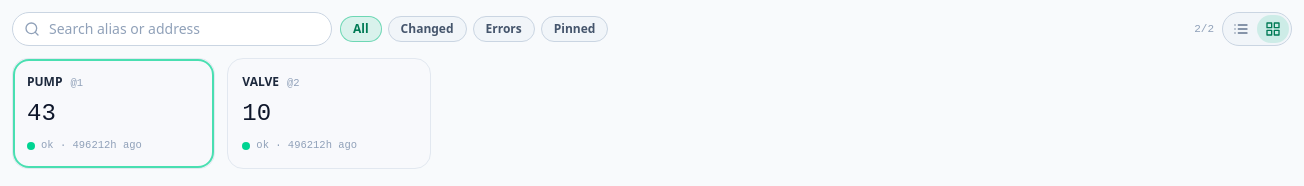
Test: RegisterMonitorView › flashes a register whose value changed and the Changed filter narrows to it
Click the button "Changed": coordinates (427, 29) [388,16,467,42]
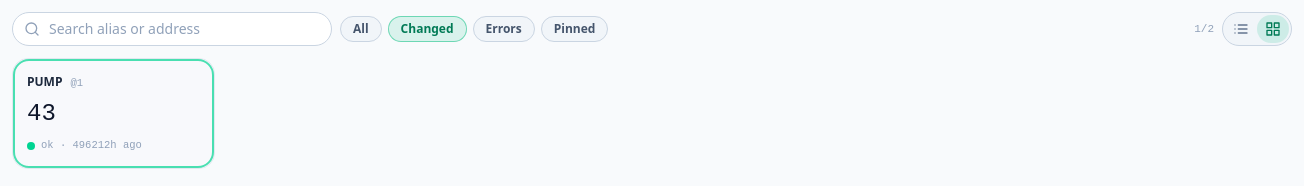
Check: the text "PUMP" is shown, box [27,73,62,91]
Check: the button "VALVE" is gone
